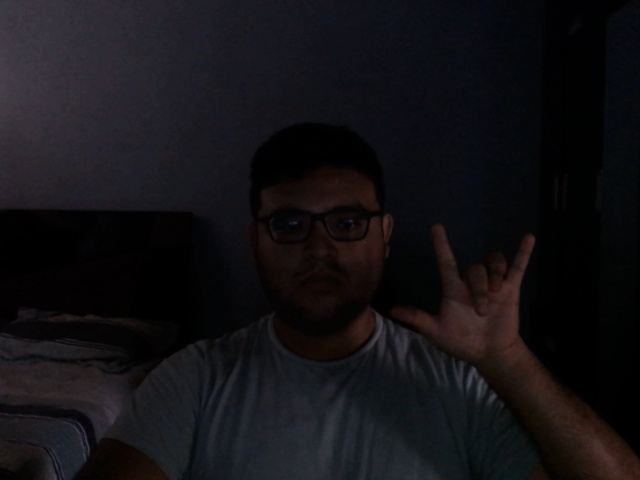I love you: (384, 221, 540, 363)
